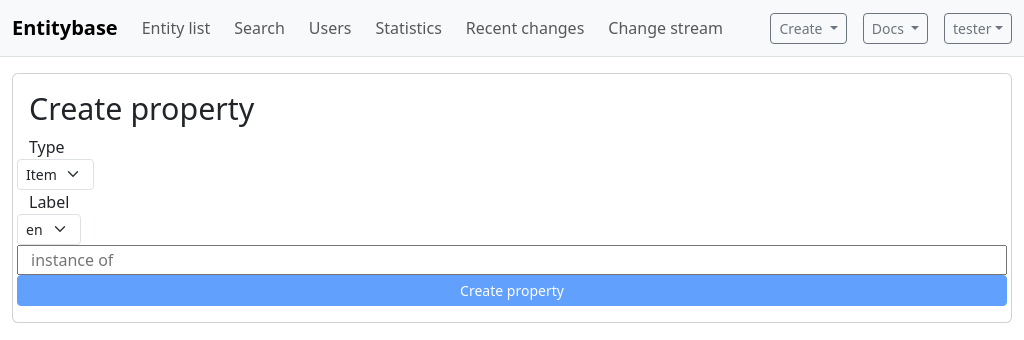
Test: CreatePropertyView › enables creating once a type is known
Type "a property" into the field with test id "property-label-input" at (512, 260), box x1=17 y1=244 x2=1007 y2=274
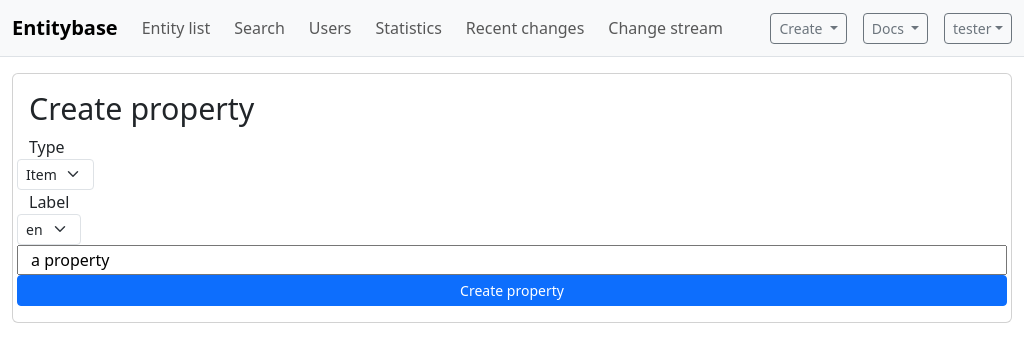
Result: the button with test id "create-property-button" is enabled at x1=17 y1=274 x2=1007 y2=306
